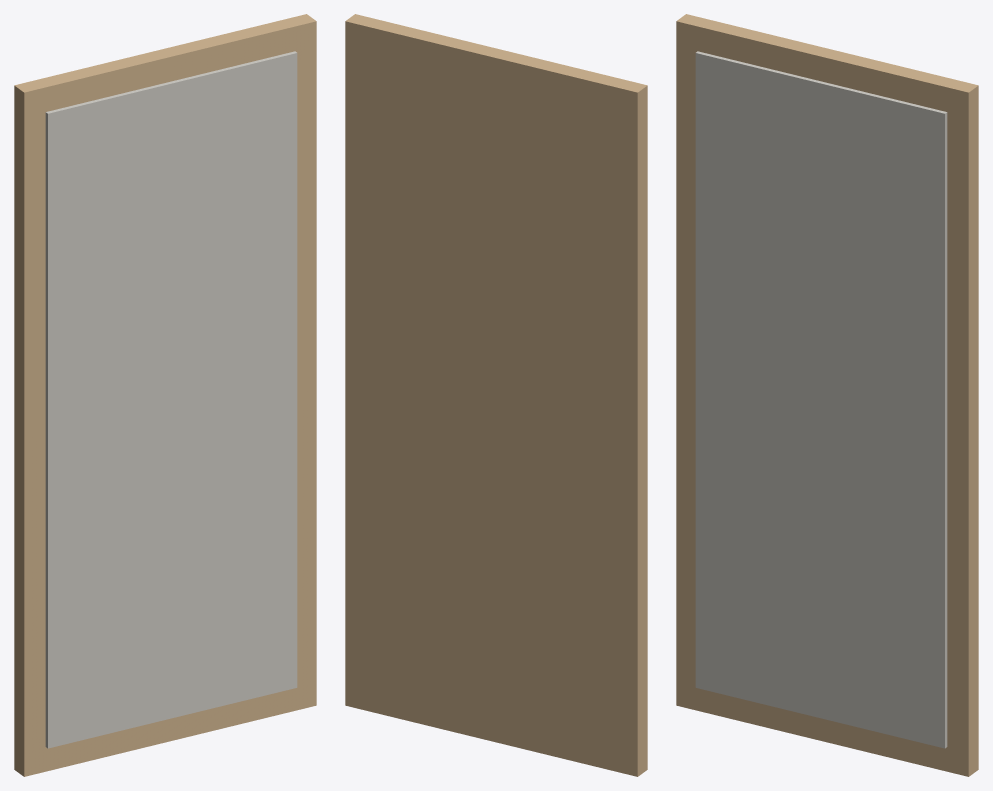
The model's file is mirror.glb.
3 renders of one model, left to right at view 1: azimuth 30°, elevation 25°; view 2: azimuth 150°, elevation 25°; view 3: azimuth 330°, elevation 25°, orthographic.
Visible parts, largest first — view 1: mirror_stone_1, mirror_oak_0; view 2: mirror_oak_0; view 3: mirror_stone_1, mirror_oak_0.
Boxes of the visible parts, <box> form: mirror_stone_1: <box>45,51,297,748</box>; mirror_oak_0: <box>14,14,316,776</box>; mirror_oak_0: <box>345,14,647,776</box>; mirror_stone_1: <box>695,51,947,748</box>; mirror_oak_0: <box>676,14,978,776</box>.
Bounding box in the file's own units: 0.68 × 1.52 × 0.049.
